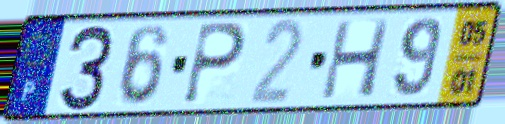2: (246, 16, 308, 108)
3: (55, 20, 117, 114)
6: (117, 23, 170, 109)
9: (390, 15, 445, 100)
H: (318, 17, 394, 102)
P: (179, 20, 250, 107)
